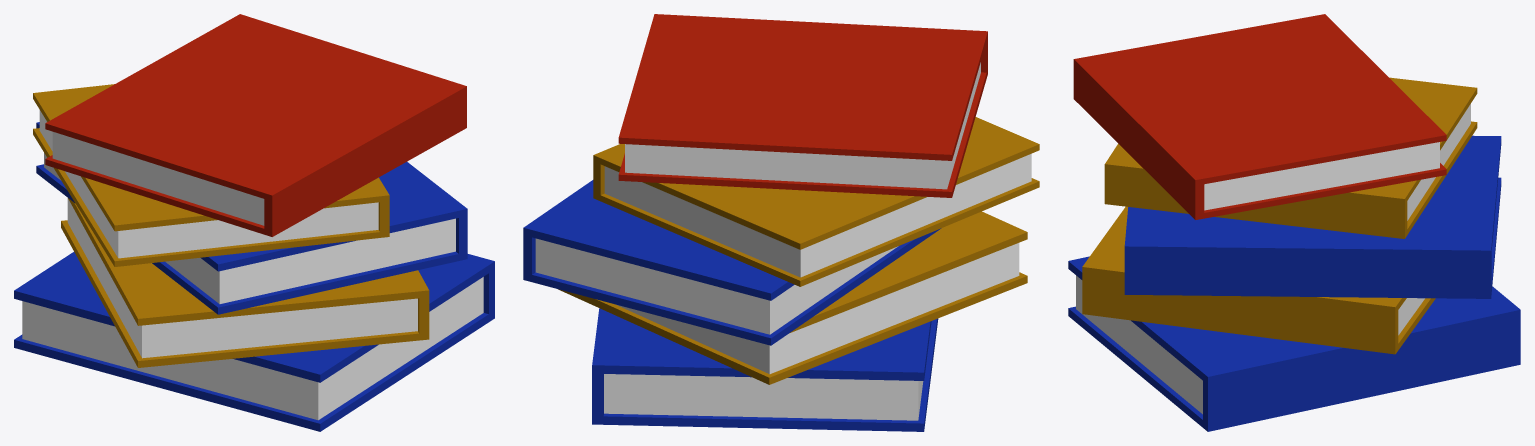
File: bukuShelf3.obj
3 renders of one model, left to right at view 1: azimuth 30°, elevation 25°; view 2: azimuth 150°, elevation 25°; view 3: azimuth 270°, elevation 25°, orthographic. The views are drawn at different scales.
Visible parts, largest first — view 1: Book_Cube.040; view 2: Book_Cube.040; view 3: Book_Cube.040.
Boxes of the visible parts, x1=… form: Book_Cube.040: x1=14, y1=14, x2=494, y2=431; Book_Cube.040: x1=523, y1=14, x2=1039, y2=431; Book_Cube.040: x1=1068, y1=14, x2=1520, y2=431.
Bounding box in the file's own units: 0.6595 × 0.3902 × 0.6788.
